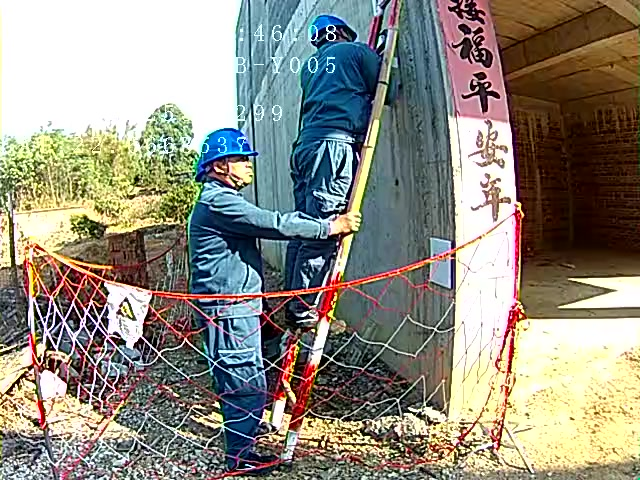downsuit: (291, 134, 350, 312), (202, 313, 270, 465)
halt: (196, 128, 258, 191), (311, 14, 357, 47)
hand: (324, 211, 362, 240)
inear: (213, 158, 238, 195)
person: (185, 126, 290, 474), (288, 9, 400, 331)
support: (187, 128, 362, 477)
upsuit: (189, 181, 332, 318), (299, 41, 383, 136)
